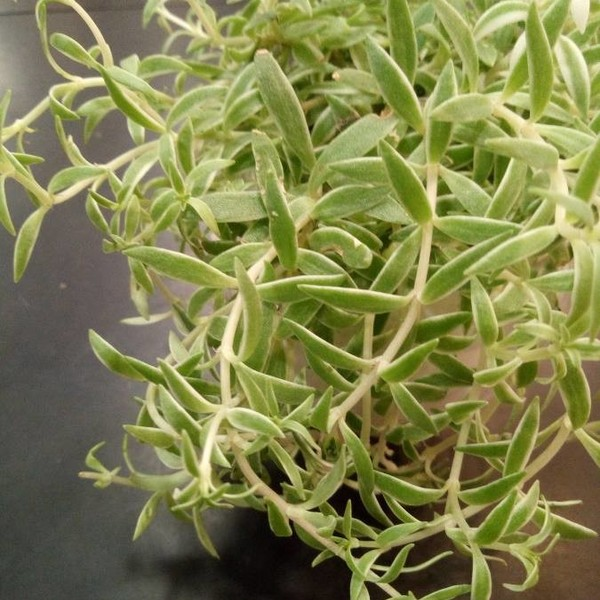obstacle: (88, 33, 564, 567)
